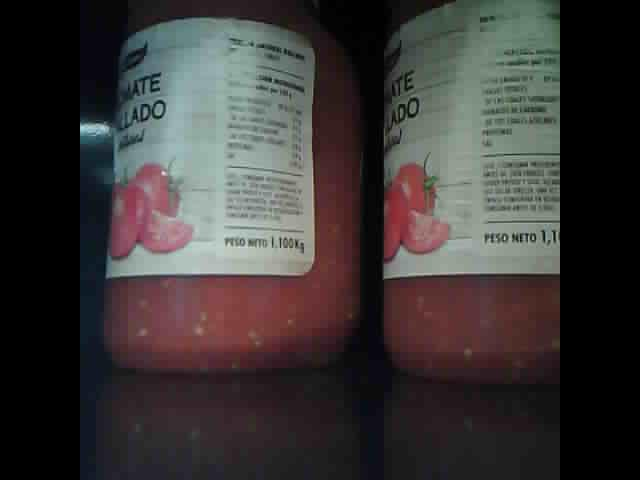tomate: (101, 4, 363, 373), (382, 2, 559, 382)
